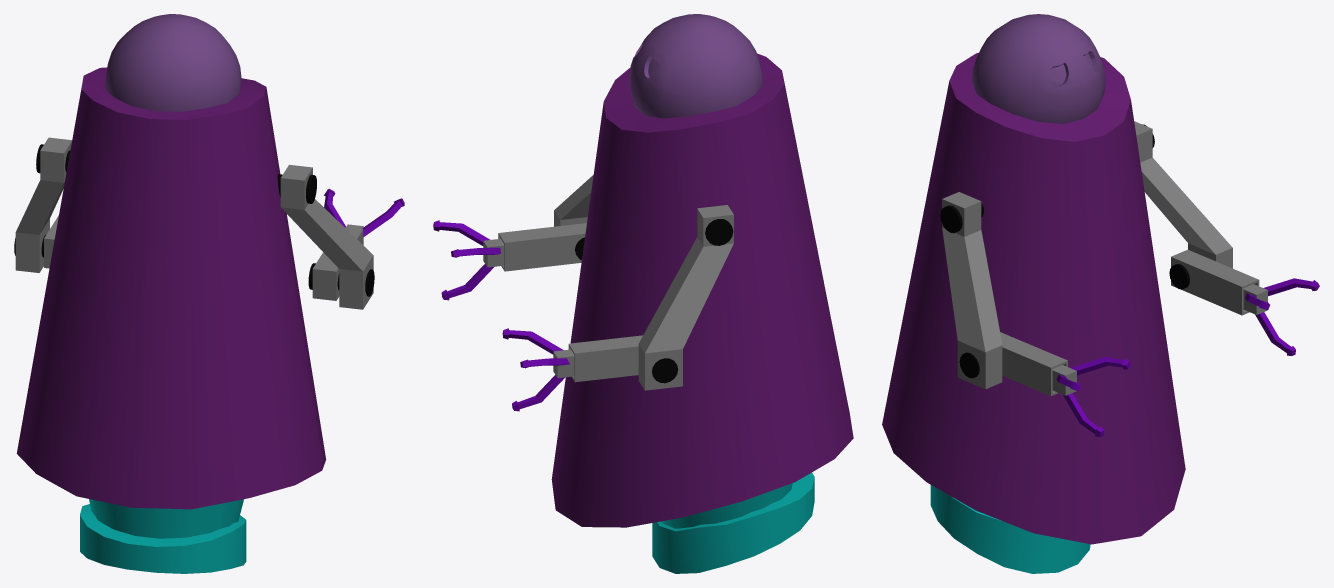
File: Speedy Chip Enemy.fbx
3 renders of one model, left to right at view 1: azimuth 30°, elevation 25°; view 2: azimuth 150°, elevation 25°; view 3: azimuth 270°, elevation 25°, orthographic. The views are drawn at different scales.
Parts seen in each view (by area): view 1: HighSpeedChip_MDL_003:Body, HighSpeedChip_MDL_003:Head, HighSpeedChip_MDL_003:PlayerChar_MDL_001:pCylinder5, HighSpeedChip_MDL_003:Forearm, HighSpeedChip_MDL_003:PlayerChar_MDL_001:pCylinder4, HighSpeedChip_MDL_003:Forearm1, HighSpeedChip_MDL_003:Hand1; view 2: HighSpeedChip_MDL_003:Body, HighSpeedChip_MDL_003:Head, HighSpeedChip_MDL_003:PlayerChar_MDL_001:pCylinder5, HighSpeedChip_MDL_003:Forearm1, HighSpeedChip_MDL_003:Hand1, HighSpeedChip_MDL_003:Hand, HighSpeedChip_MDL_003:PlayerChar_MDL_001:pCylinder4, HighSpeedChip_MDL_003:Forearm, HighSpeedChip_MDL_003:Arm_Left2, HighSpeedChip_MDL_003:pCube6, HighSpeedChip_MDL_003:pCube1, HighSpeedChip_MDL_003:pCube5 (+1 smaller); view 3: HighSpeedChip_MDL_003:Body, HighSpeedChip_MDL_003:Head, HighSpeedChip_MDL_003:Forearm, HighSpeedChip_MDL_003:PlayerChar_MDL_001:pCylinder5, HighSpeedChip_MDL_003:Forearm1, HighSpeedChip_MDL_003:Hand, HighSpeedChip_MDL_003:Hand1, HighSpeedChip_MDL_003:pCube8.
Part boxes in pixels (x1,y1,x2,y2): HighSpeedChip_MDL_003:Body: (16, 67, 326, 509); HighSpeedChip_MDL_003:Head: (105, 14, 241, 111); HighSpeedChip_MDL_003:PlayerChar_MDL_001:pCylinder5: (80, 504, 246, 573); HighSpeedChip_MDL_003:Forearm: (280, 164, 373, 309); HighSpeedChip_MDL_003:PlayerChar_MDL_001:pCylinder4: (89, 499, 243, 538); HighSpeedChip_MDL_003:Forearm1: (15, 137, 71, 272); HighSpeedChip_MDL_003:Hand1: (312, 224, 363, 300); HighSpeedChip_MDL_003:Body: (551, 53, 853, 527); HighSpeedChip_MDL_003:Head: (629, 14, 762, 118); HighSpeedChip_MDL_003:PlayerChar_MDL_001:pCylinder5: (652, 472, 814, 573); HighSpeedChip_MDL_003:Forearm1: (638, 205, 733, 390); HighSpeedChip_MDL_003:Hand1: (483, 223, 586, 271); HighSpeedChip_MDL_003:Hand: (553, 335, 642, 382); HighSpeedChip_MDL_003:PlayerChar_MDL_001:pCylinder4: (661, 483, 792, 528); HighSpeedChip_MDL_003:Forearm: (554, 175, 593, 226); HighSpeedChip_MDL_003:Arm_Left2: (705, 219, 733, 245); HighSpeedChip_MDL_003:pCube6: (502, 328, 563, 354); HighSpeedChip_MDL_003:pCube1: (433, 220, 490, 245); HighSpeedChip_MDL_003:pCube5: (512, 375, 564, 411); HighSpeedChip_MDL_003:Body: (882, 52, 1185, 544); HighSpeedChip_MDL_003:Head: (971, 14, 1105, 123); HighSpeedChip_MDL_003:Forearm: (942, 192, 1002, 389); HighSpeedChip_MDL_003:PlayerChar_MDL_001:pCylinder5: (930, 485, 1090, 573); HighSpeedChip_MDL_003:Forearm1: (1134, 121, 1232, 268); HighSpeedChip_MDL_003:Hand: (1171, 249, 1267, 315); HighSpeedChip_MDL_003:Hand1: (1000, 332, 1076, 396); HighSpeedChip_MDL_003:pCube8: (1070, 357, 1130, 375).
Bounding box in the file's own units: 122 × 164 × 122.
